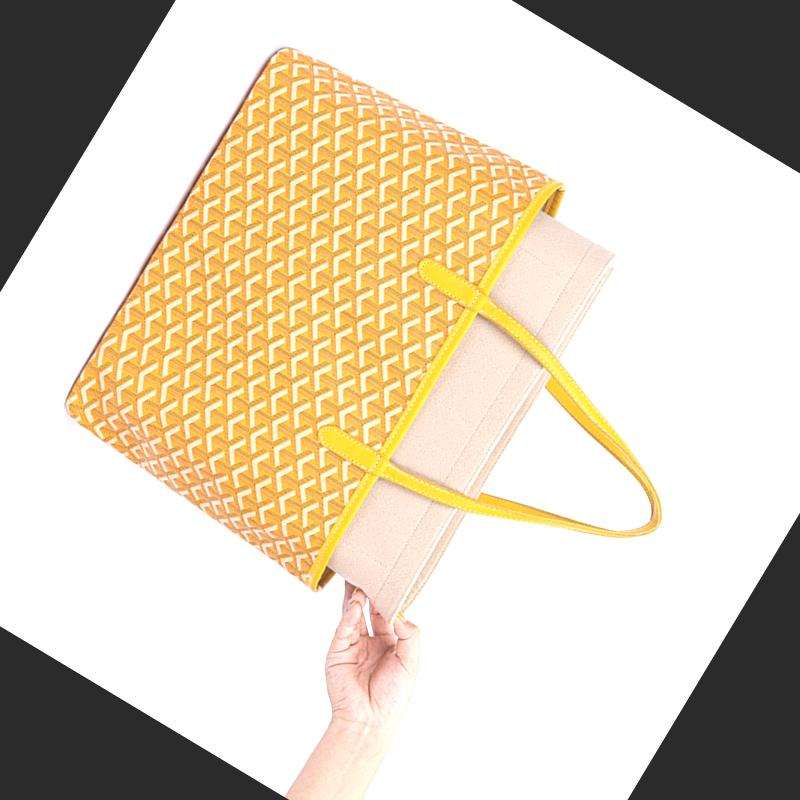GOYARD: (43, 18, 558, 590)
